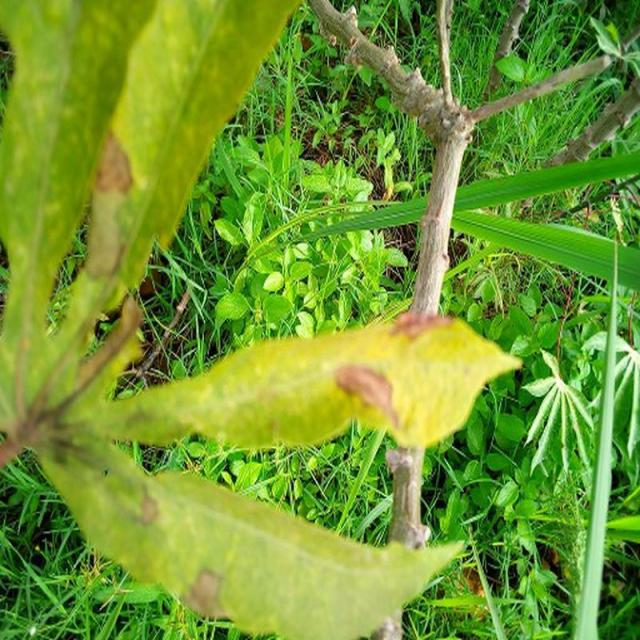cassava leaf: (2, 0, 484, 638), (106, 310, 524, 452)
